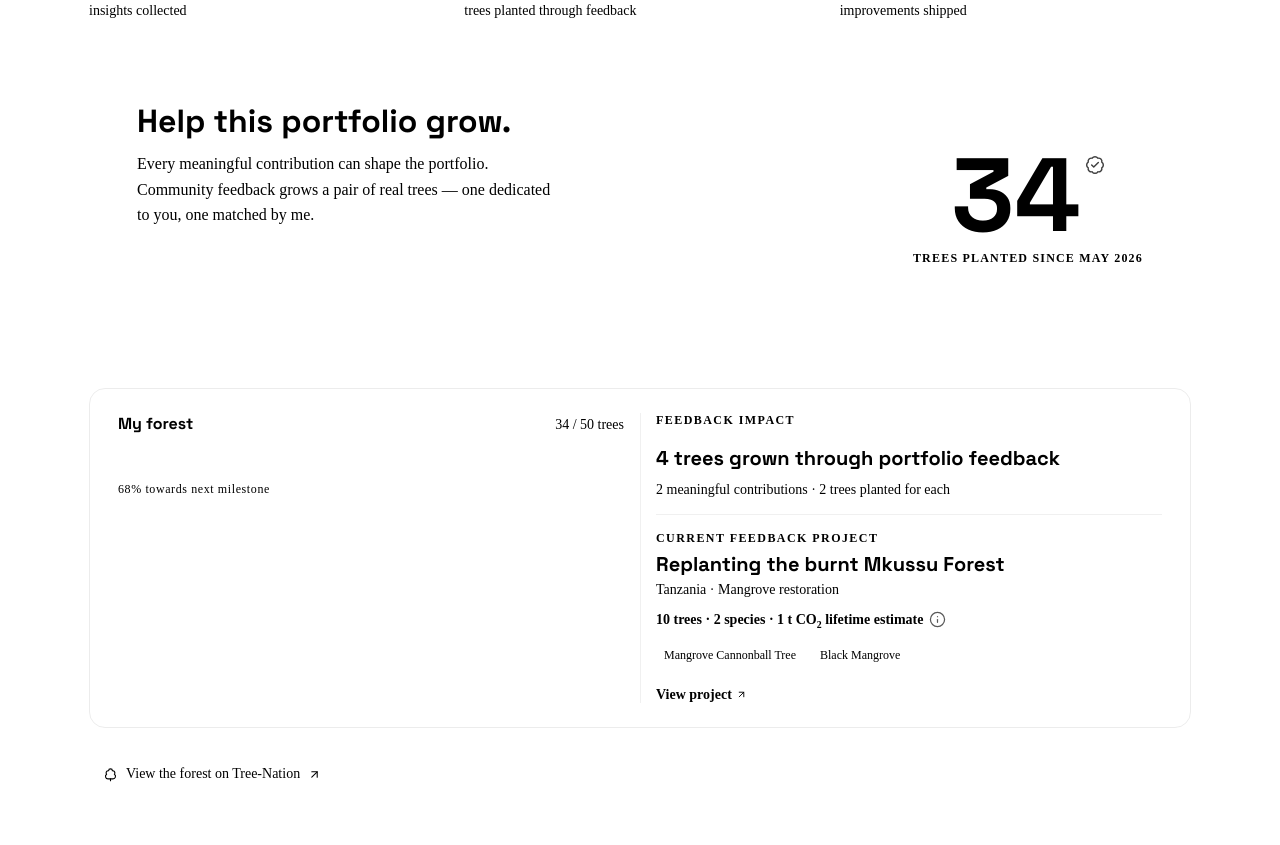
Test: Forest › CO₂ metric with clarification tooltip › opens the tooltip with the exact copy and wires aria-describedby
The width and height of the screenshot is (1280, 845).
(page scrolled)
Step 1. Click the button named "About the CO₂ estimate" → (938, 621), box [916,599,960,643]
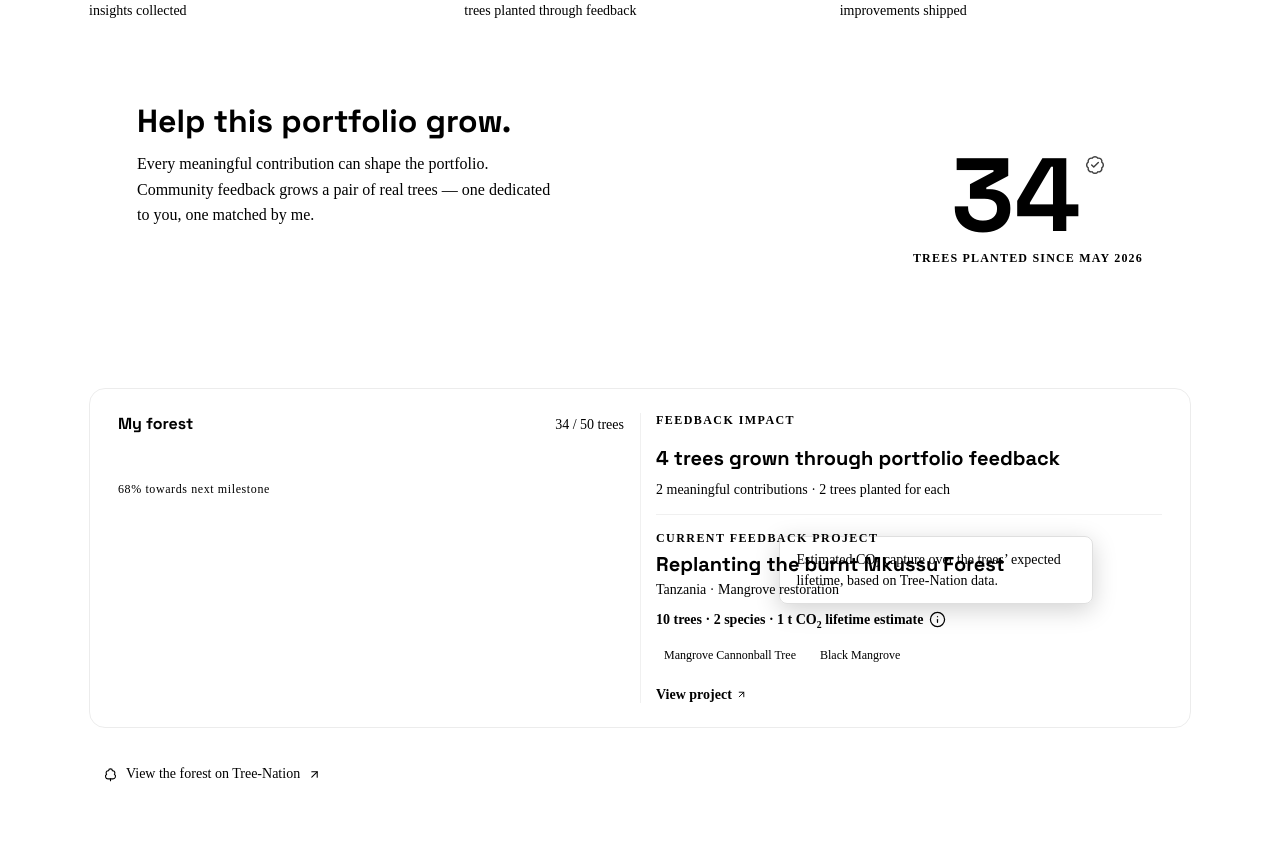
Expected: the tooltip shows "Estimated CO₂ capture over the trees’ expected lifetime, based on Tree-Nation data.", [796,552,1061,588]
Step 2. Press Escape
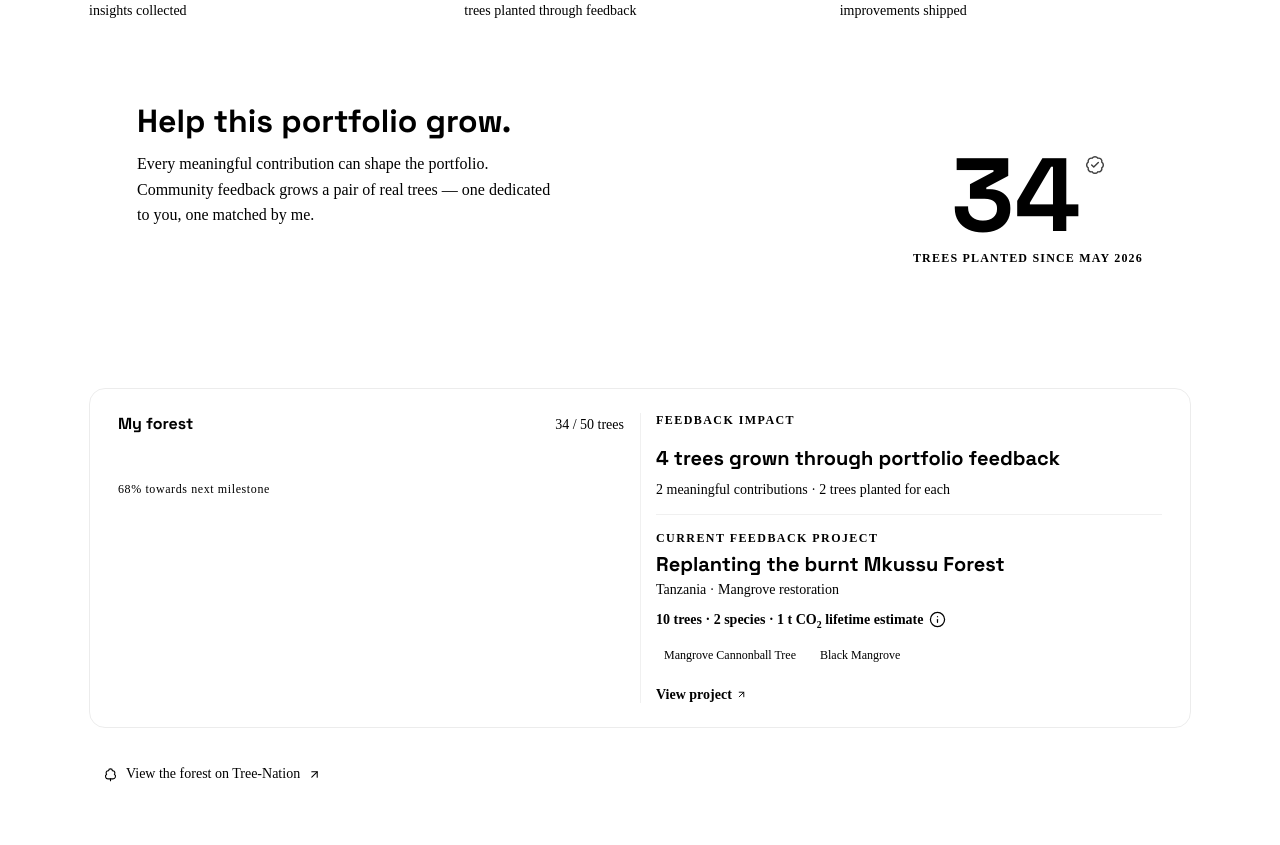
Expected: the tooltip is gone
